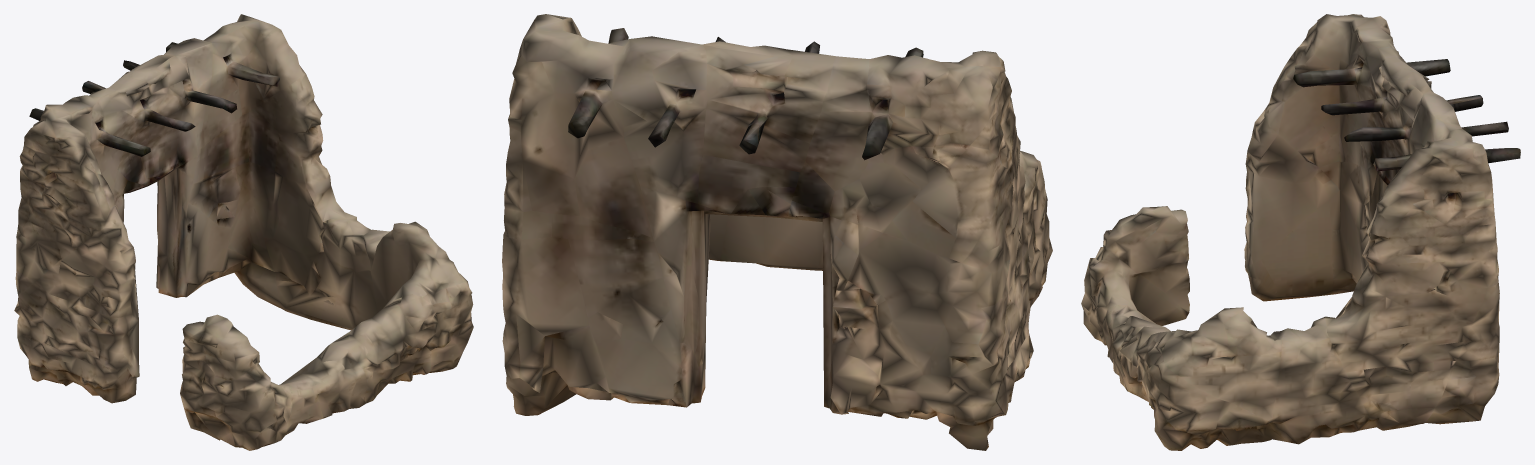
Rendered from uy_vayrona.glb.
3 views of the same model, side by side, from view 1: azimuth 30°, elevation 25°; view 2: azimuth 150°, elevation 25°; view 3: azimuth 270°, elevation 25° (orthographic). The views are drawn at different scales.
Parts seen in each view (by area): view 1: tripo_node_5ec9d5a6-377a-4c53-9d65-248cbaffade2; view 2: tripo_node_5ec9d5a6-377a-4c53-9d65-248cbaffade2; view 3: tripo_node_5ec9d5a6-377a-4c53-9d65-248cbaffade2.
Boxes of the visible parts, bbox=[...] form: tripo_node_5ec9d5a6-377a-4c53-9d65-248cbaffade2: bbox=[14, 14, 473, 450]; tripo_node_5ec9d5a6-377a-4c53-9d65-248cbaffade2: bbox=[502, 14, 1052, 450]; tripo_node_5ec9d5a6-377a-4c53-9d65-248cbaffade2: bbox=[1081, 14, 1520, 450].
Bounding box in the file's own units: 0.9754 × 0.6802 × 0.9771.
Materials: 1 (1 with a texture image).
